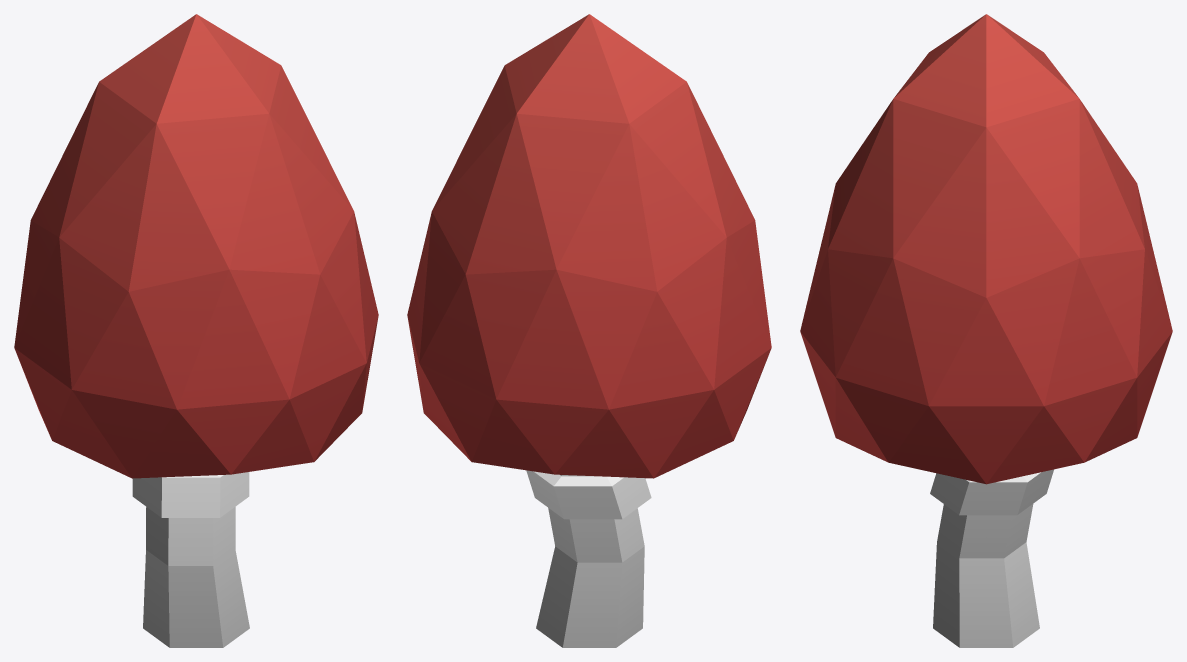
The model's file is Mesh_Nature_Mushroom_01.FBX.
3 renders of one model, left to right at view 1: azimuth 30°, elevation 25°; view 2: azimuth 150°, elevation 25°; view 3: azimuth 270°, elevation 25°, orthographic.
Visible parts, largest first — view 1: Mesh_Nature_Mushroom_01; view 2: Mesh_Nature_Mushroom_01; view 3: Mesh_Nature_Mushroom_01.
Boxes of the visible parts, bbox=[...] form: Mesh_Nature_Mushroom_01: bbox=[14, 14, 378, 647]; Mesh_Nature_Mushroom_01: bbox=[407, 14, 771, 647]; Mesh_Nature_Mushroom_01: bbox=[800, 14, 1172, 647].
Size of what is drawn, in the model's own units: 29.58 by 31.1 by 56.58.
